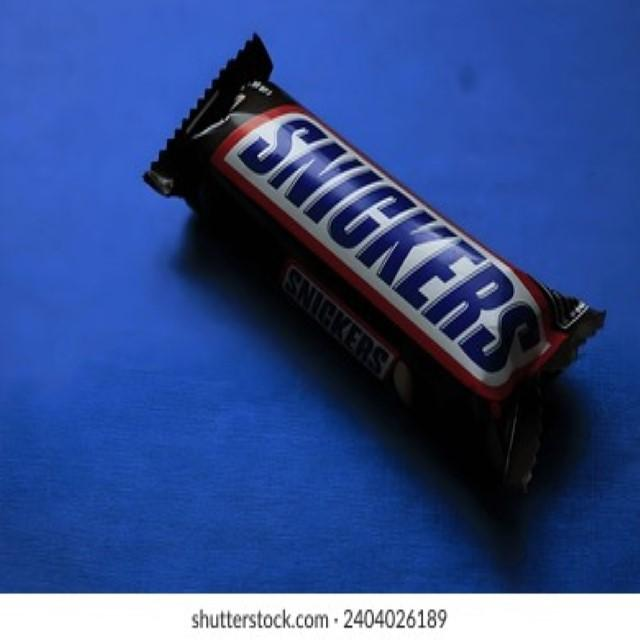snickers_chocolate: (230, 75, 540, 420)
